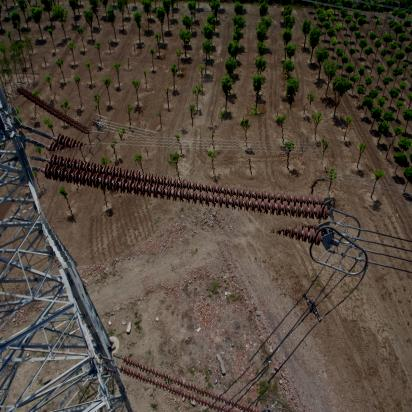insulator: (34, 119, 331, 261), (111, 356, 269, 412), (10, 88, 99, 131)
